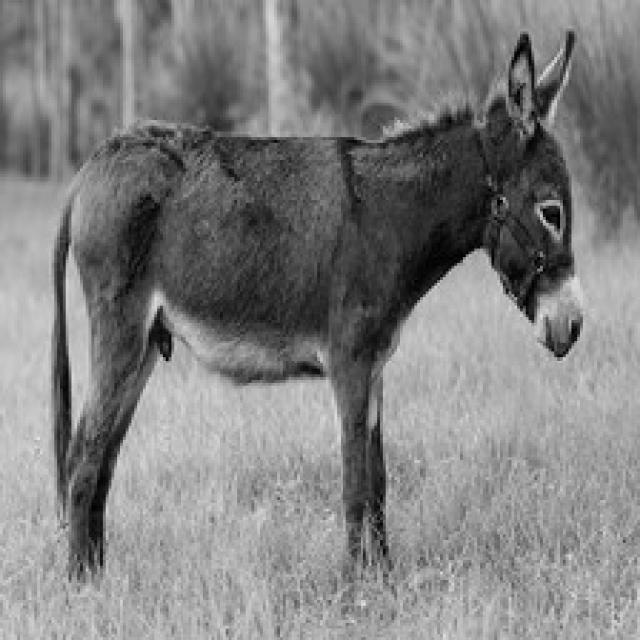Donkey: (46, 26, 586, 586)
